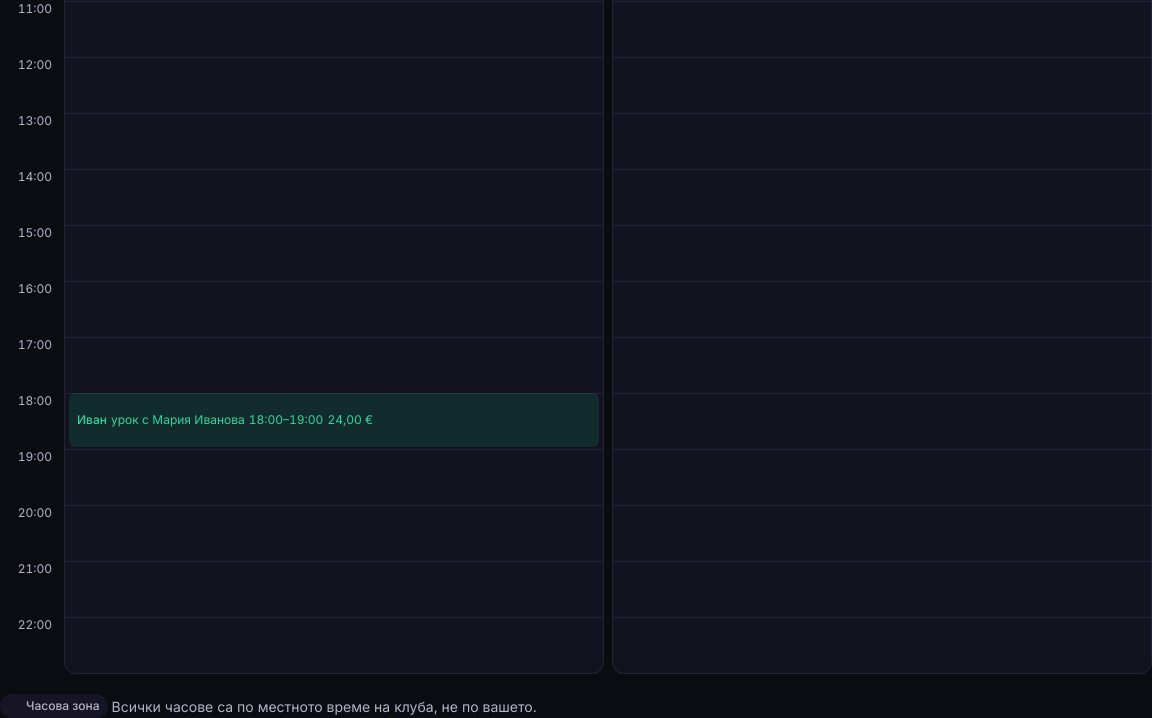
it: DayGrid on the primitives › a lesson still ahead (#549): the desk opens it, sees who teaches, and can cancel it › once it has started there is no cancel: what is left is whether the player came
(page scrolled)
Click the button with aria-label "Иван, 18:00–19:00": (334, 420) [69,393,599,447]
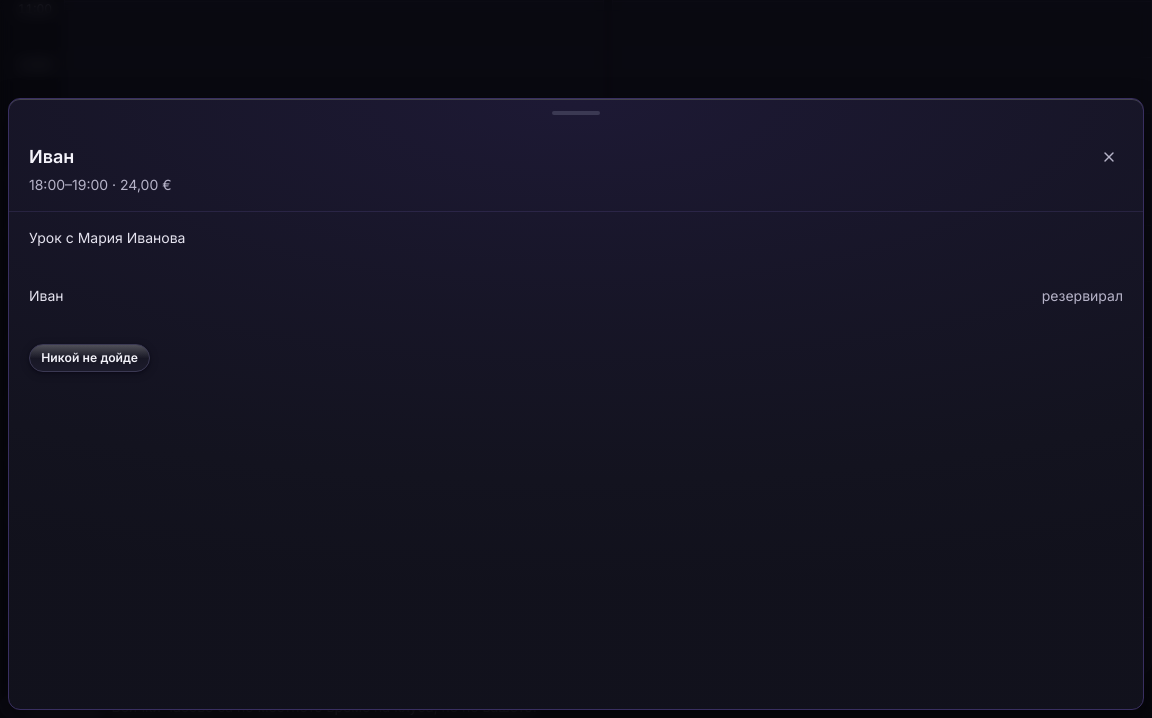
Now the button "Никой не дойде" is shown, box [29,344,150,372]
